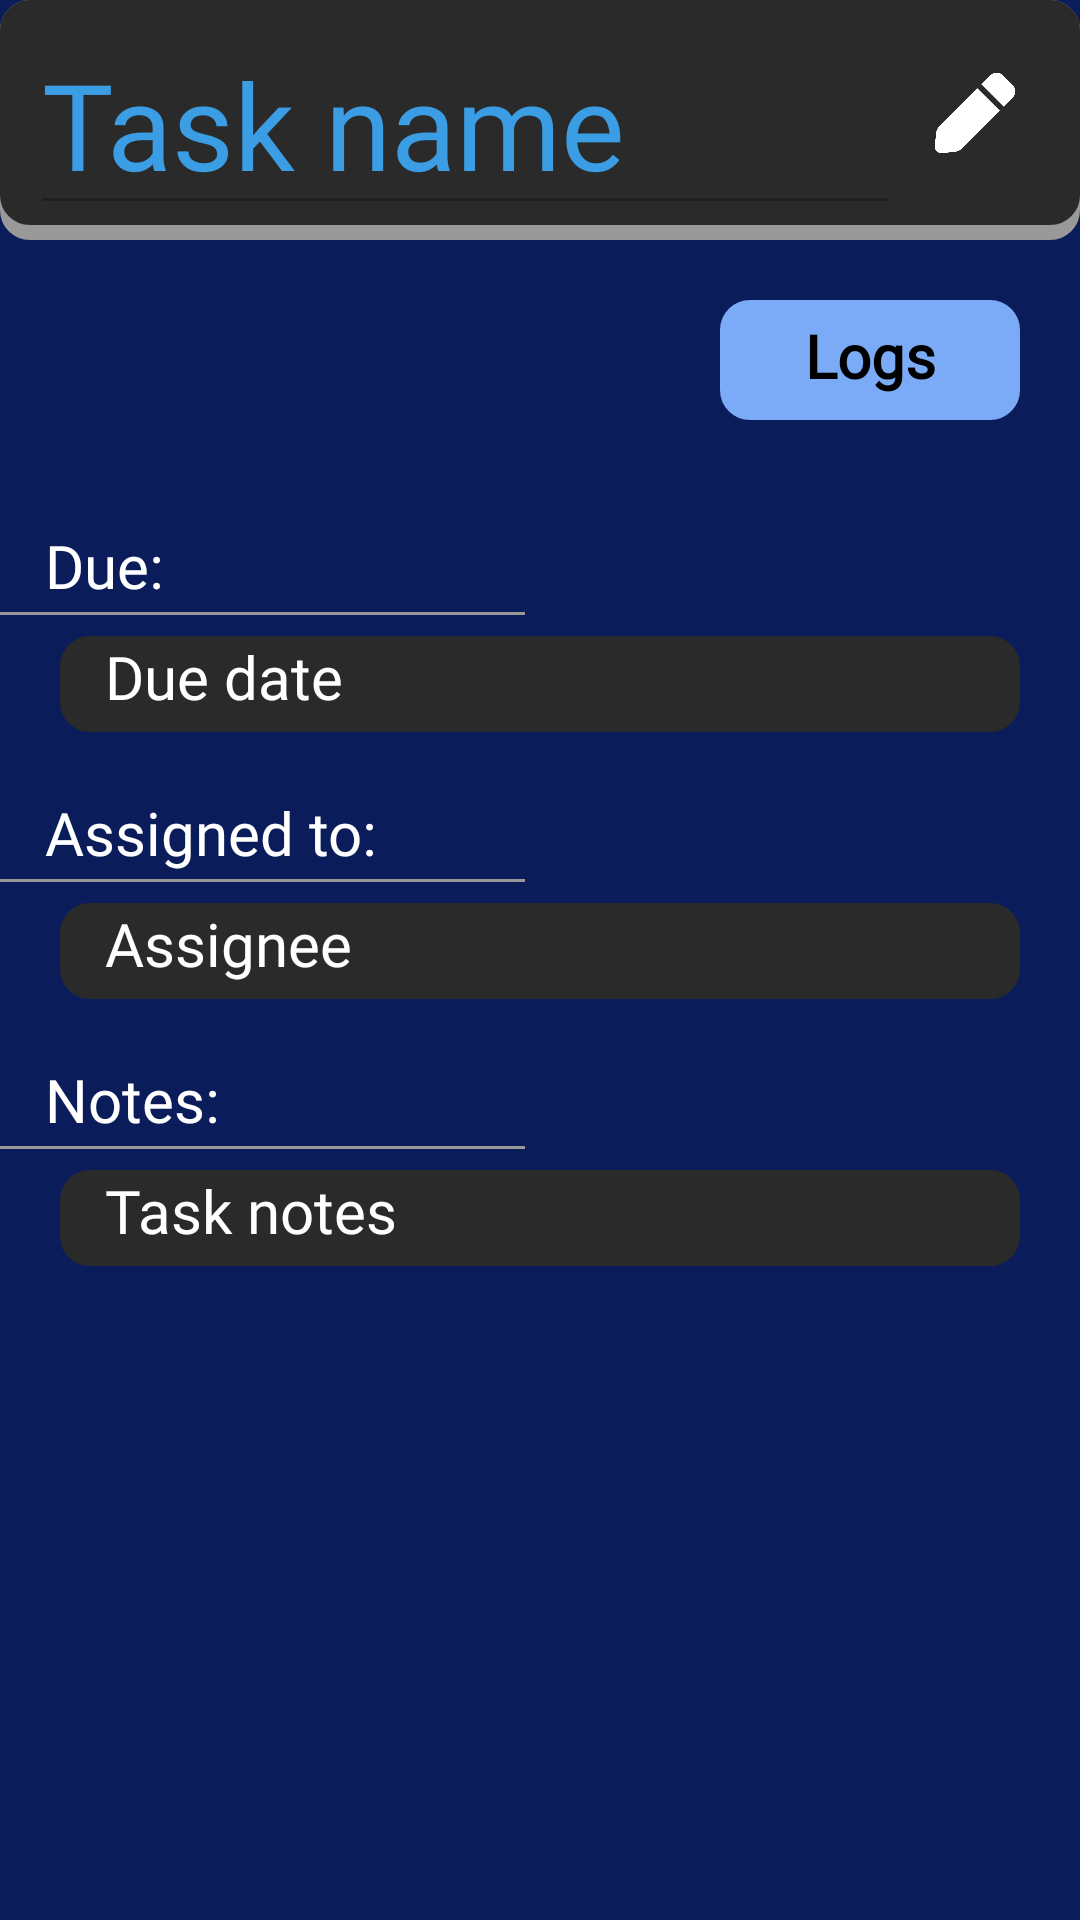

Screen size 1080*1920. Icon name, then its box in pixels as Rect(x1, y1, x2, y2):
pencil: Rect(935, 73, 1015, 153)
